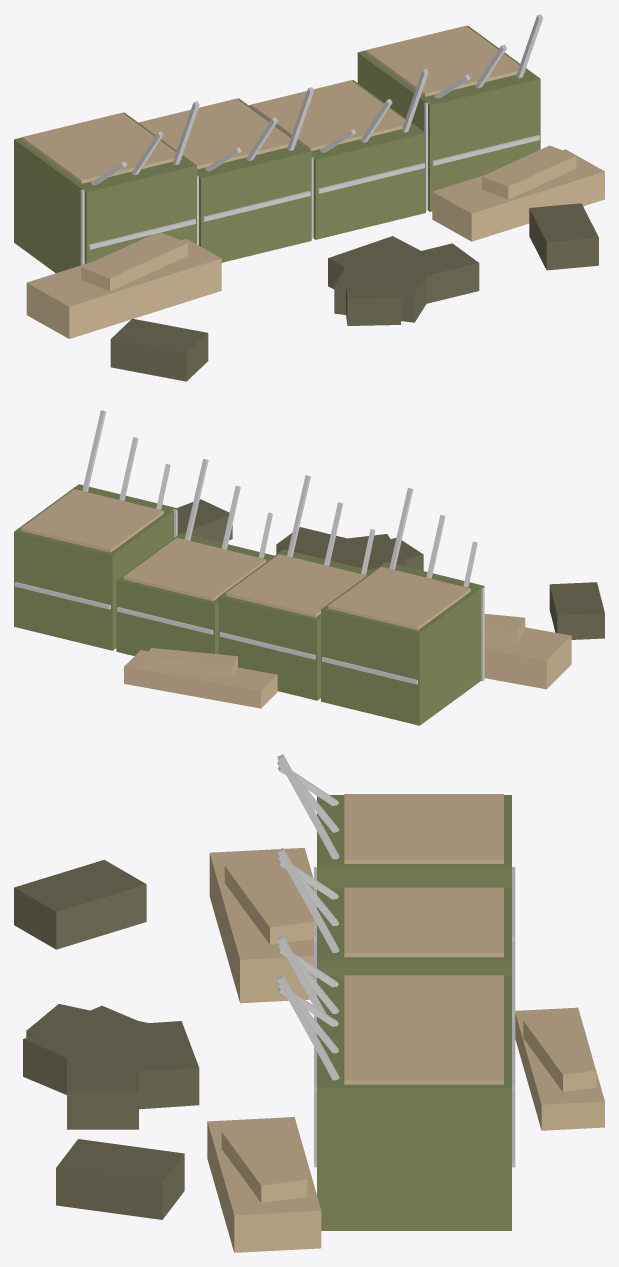
The model's file is SM_HescoCorto4_v3_RemateSacos_e2_MuyDanado_LOD0.fbx.
3 views of the same model, one above another, from view 1: azimuth 30°, elevation 25°; view 2: azimuth 150°, elevation 25°; view 3: azimuth 270°, elevation 25° (orthographic). The views are drawn at different scales.
Visible parts, largest first — view 1: SM_hesco_piezas_v114_LOD0; view 2: SM_hesco_piezas_v114_LOD0; view 3: SM_hesco_piezas_v114_LOD0.
Boxes of the visible parts, <box> form: SM_hesco_piezas_v114_LOD0: <box>14,14,604,381</box>; SM_hesco_piezas_v114_LOD0: <box>14,410,604,725</box>; SM_hesco_piezas_v114_LOD0: <box>14,754,604,1252</box>.
Bounding box in the file's own units: 5.36 × 1.7 × 3.7.
